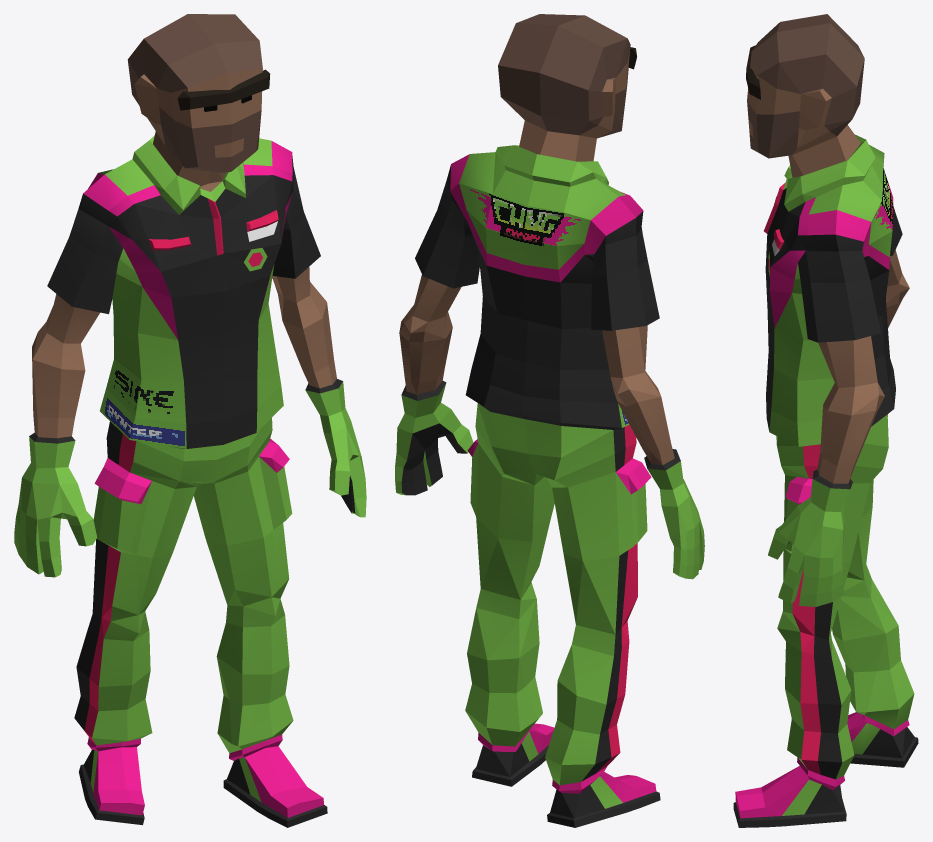
The model's file is driver-e.glb.
3 renders of one model, left to right at view 1: azimuth 30°, elevation 25°; view 2: azimuth 150°, elevation 25°; view 3: azimuth 270°, elevation 25°, orthographic. The views are drawn at different scales.
Visible parts, largest first — view 1: driver-e; view 2: driver-e; view 3: driver-e.
Part boxes in pixels (bbox=[...]): driver-e: bbox=[14, 14, 366, 827]; driver-e: bbox=[395, 14, 704, 827]; driver-e: bbox=[733, 14, 918, 827].
Size of the model in its own units: 0.7478 by 1.79 by 0.3941.
Materials: 1 (1 with a texture image).
